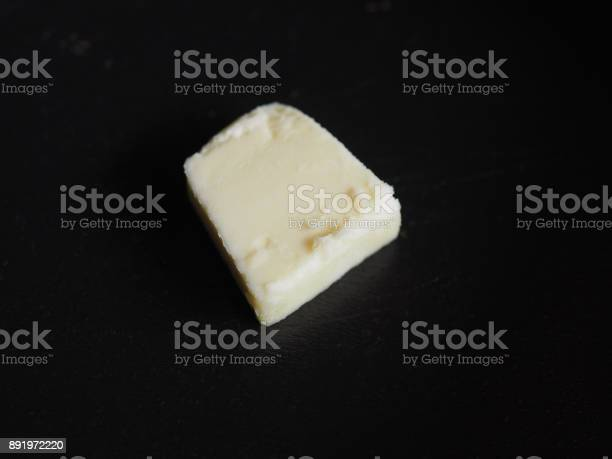Butter: (183, 104, 403, 325)
